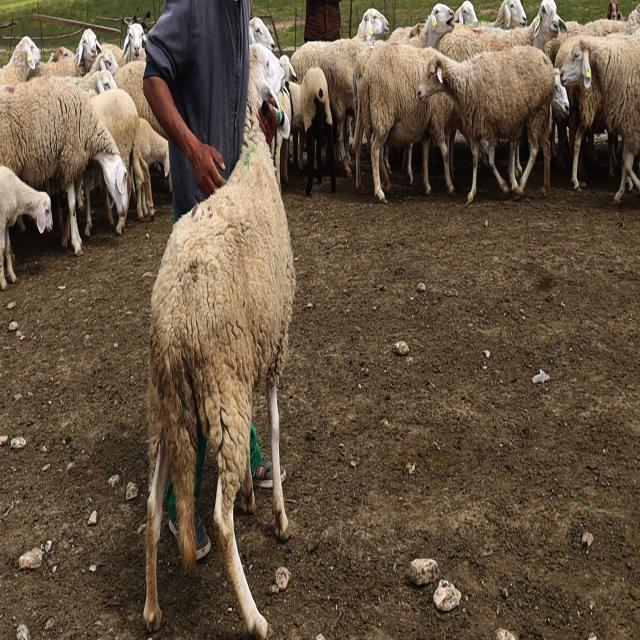Score_1: (143, 43, 296, 639)
